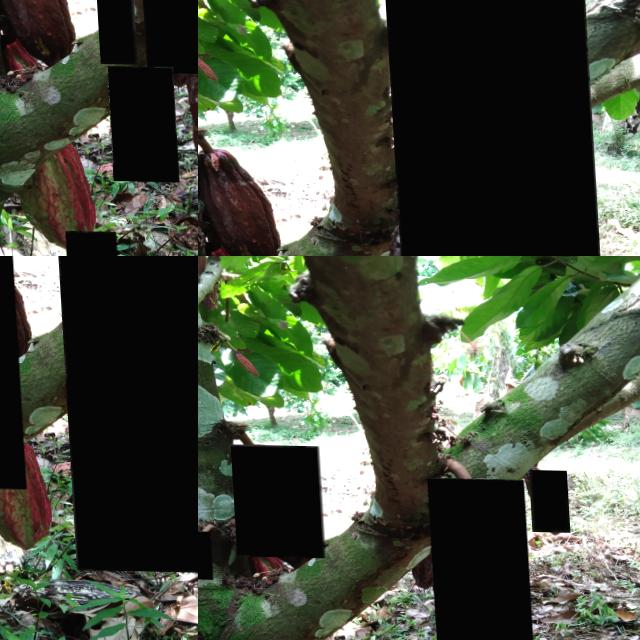Fitoftora: (228, 444, 322, 557)
Monilia: (54, 256, 198, 573), (424, 476, 529, 640)
Sana: (384, 0, 600, 256), (103, 65, 174, 181), (137, 0, 198, 72), (92, 0, 133, 63), (526, 468, 567, 530), (59, 229, 112, 256)
